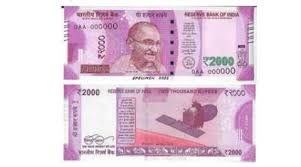twoThousand: (73, 19, 242, 68)
